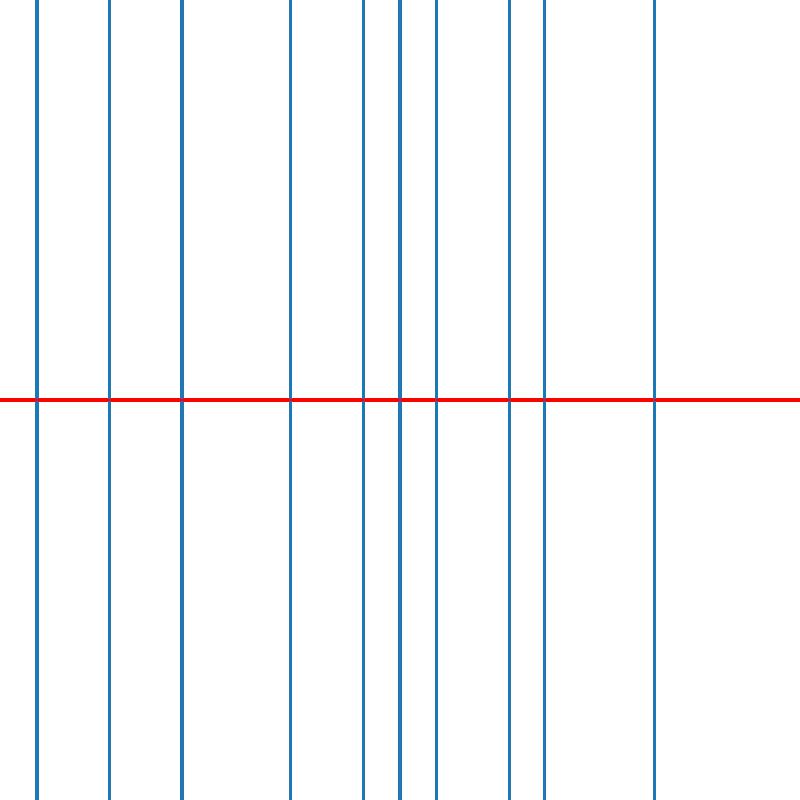root: (32, 396, 40, 404), (432, 396, 440, 404), (650, 396, 658, 404), (541, 396, 549, 404), (360, 396, 367, 404), (505, 396, 512, 404), (105, 396, 112, 404), (287, 396, 294, 404), (178, 396, 185, 404), (396, 396, 403, 404)
